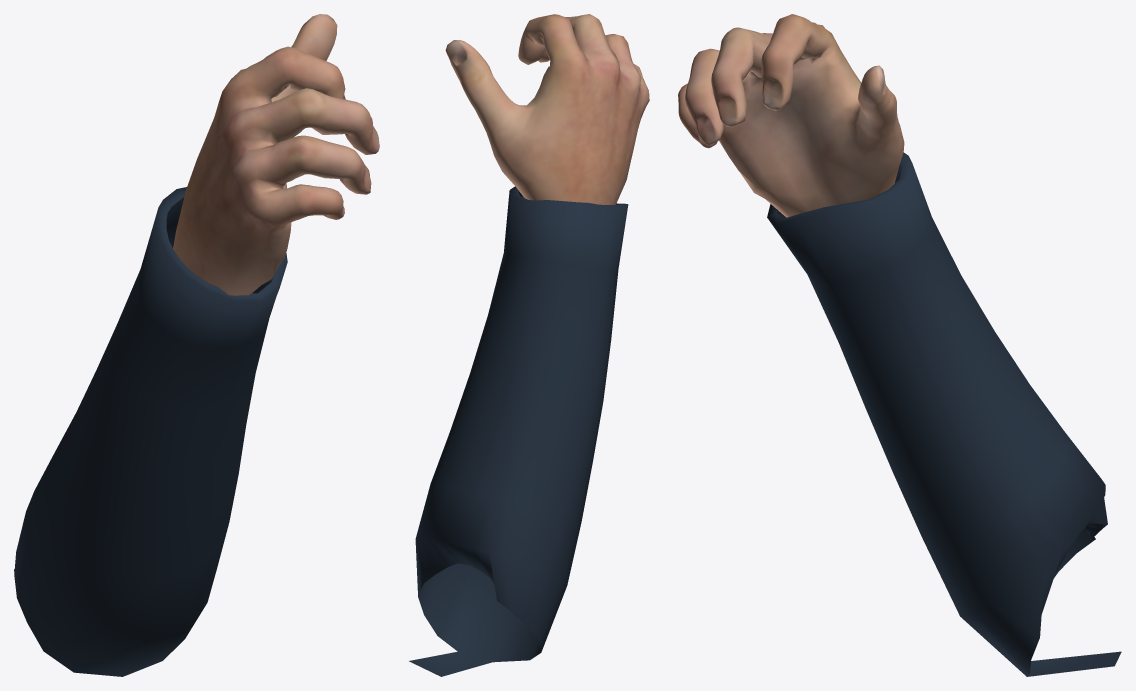
Rendered from hand-grip.glb.
3 views of the same model, side by side, from view 1: azimuth 30°, elevation 25°; view 2: azimuth 150°, elevation 25°; view 3: azimuth 270°, elevation 25° (orthographic). The views are drawn at different scales.
Visible parts, largest first — view 1: Player grip clothes, Player grip skin; view 2: Player grip clothes, Player grip skin; view 3: Player grip clothes, Player grip skin.
Boxes of the visible parts, x1=… form: Player grip clothes: x1=14, y1=187, x2=287, y2=676; Player grip skin: x1=173, y1=14, x2=379, y2=295; Player grip clothes: x1=409, y1=186, x2=628, y2=676; Player grip skin: x1=445, y1=14, x2=649, y2=204; Player grip clothes: x1=767, y1=152, x2=1121, y2=676; Player grip skin: x1=678, y1=14, x2=904, y2=217.
Bounding box in the file's own units: 0.2203 × 0.6803 × 0.4113.
Materials: 2 (1 with a texture image).
